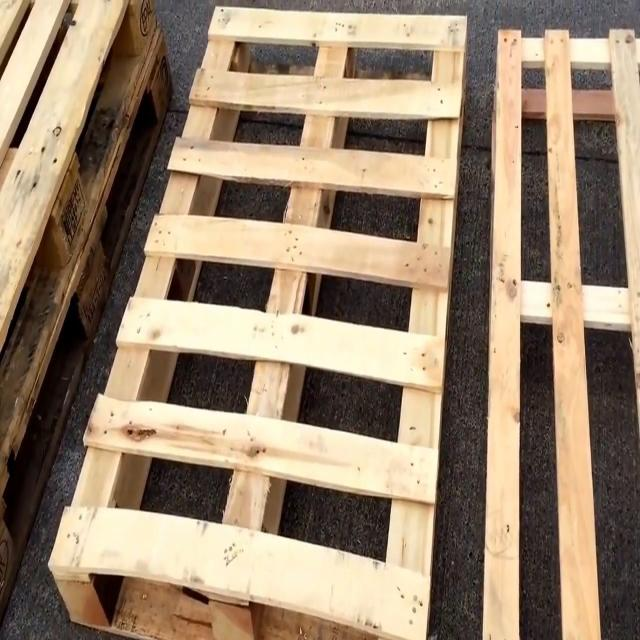Palette: (46, 0, 471, 640), (0, 0, 180, 640), (478, 9, 640, 640)
